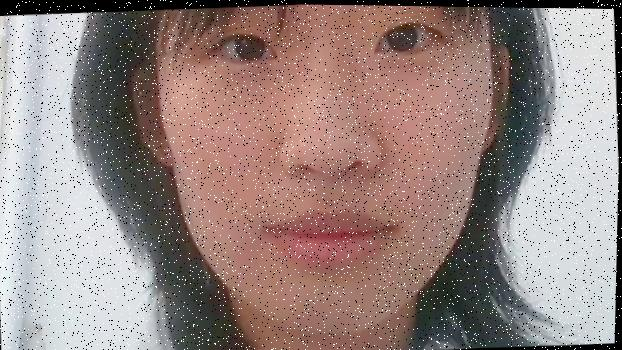eye: (233, 32, 266, 64), (385, 21, 418, 51)
iris: (212, 31, 279, 67), (370, 20, 436, 55)
